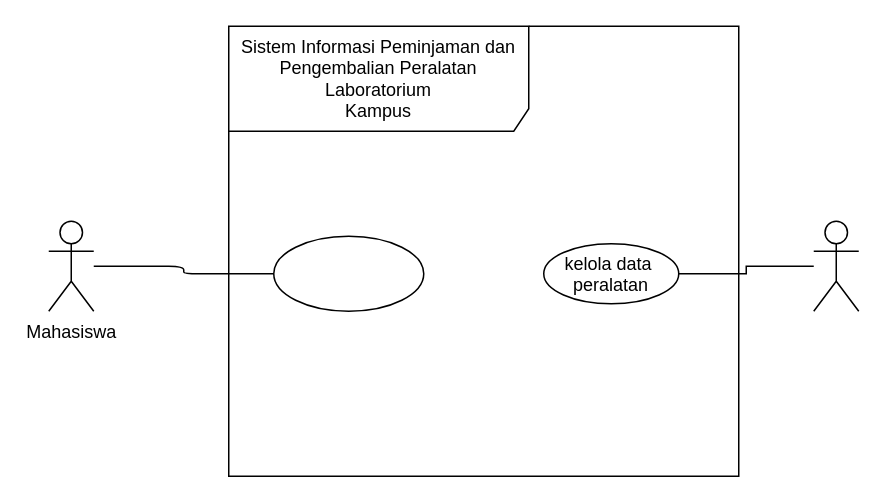
This 896x503 diagram has some shape labels left out. Here are the shapes that lost their labels. From the top down, the centre of each, then its label:
At pixel 348 273: "lihat ketersedian peralatan".
At pixel 835 265: "petugas lab".
